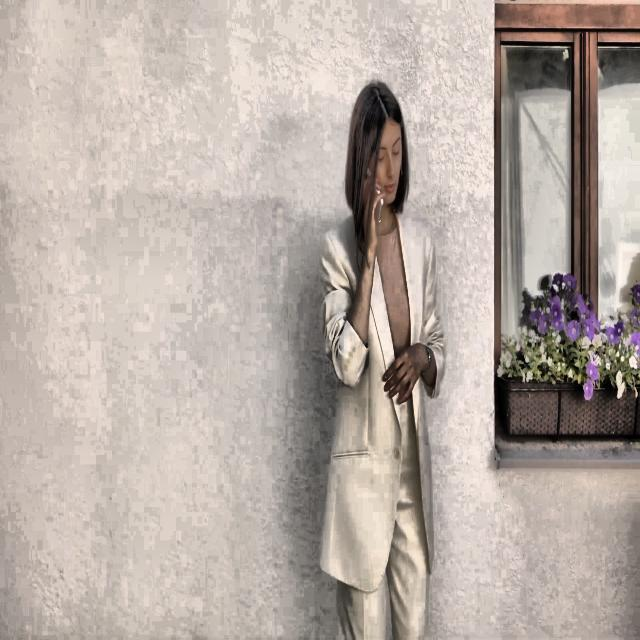Phone: (362, 167, 384, 226)
